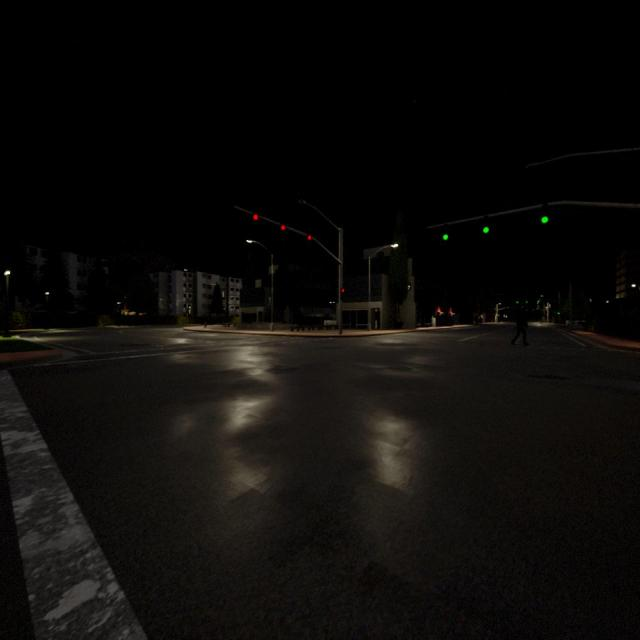Pedestrian: (511, 305, 529, 345)
traffic_light: (541, 204, 548, 224), (483, 216, 489, 233), (442, 224, 448, 240), (340, 288, 345, 298), (280, 224, 286, 230), (253, 214, 258, 221), (307, 235, 312, 240), (536, 299, 540, 305), (557, 312, 560, 315), (516, 301, 518, 304), (526, 301, 528, 303)
